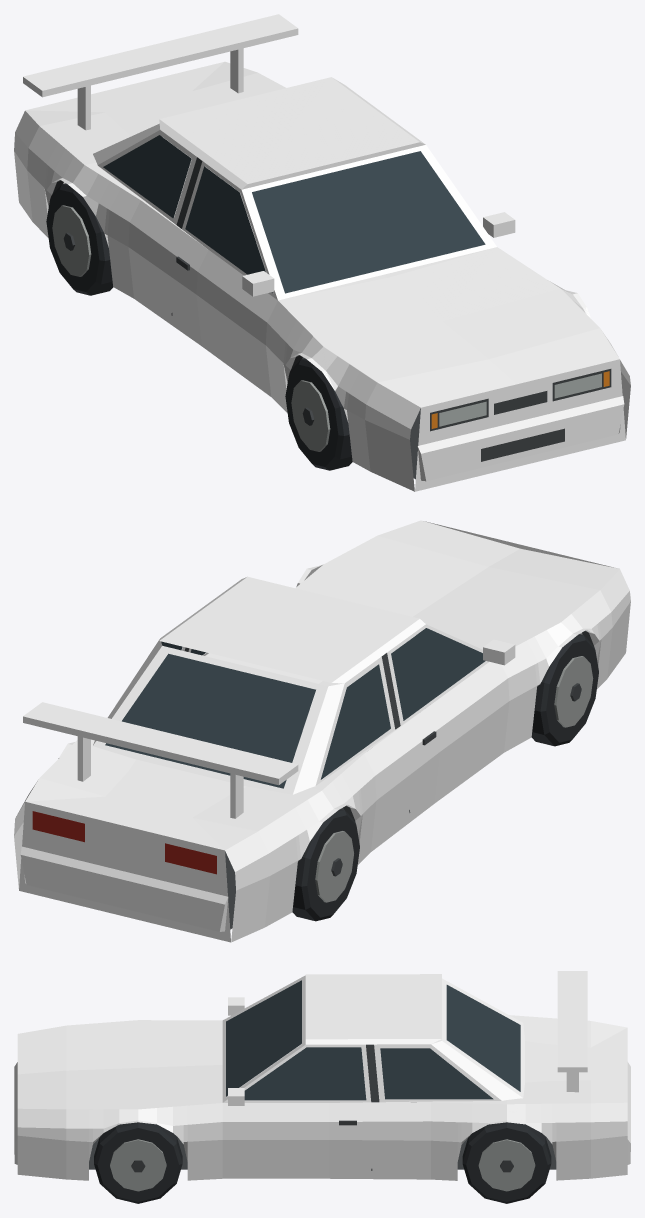
File: garrison_arroyo_corrida.glb
The picture shows the model from 3 angles, top to bottom: view 1: azimuth 30°, elevation 25°; view 2: azimuth 150°, elevation 25°; view 3: azimuth 270°, elevation 25°; orthographic projection. The views are drawn at different scales.
Visible parts, largest first — view 1: garrison_arroyo_corrida; view 2: garrison_arroyo_corrida; view 3: garrison_arroyo_corrida.
Boxes of the visible parts, x1,y1,x2,y2 form: garrison_arroyo_corrida: (14, 14, 630, 491); garrison_arroyo_corrida: (14, 520, 630, 942); garrison_arroyo_corrida: (14, 971, 630, 1203).
Bounding box in the file's own units: 1.76 × 1.2 × 4.5.
Materials: 8 (1 with a texture image).
